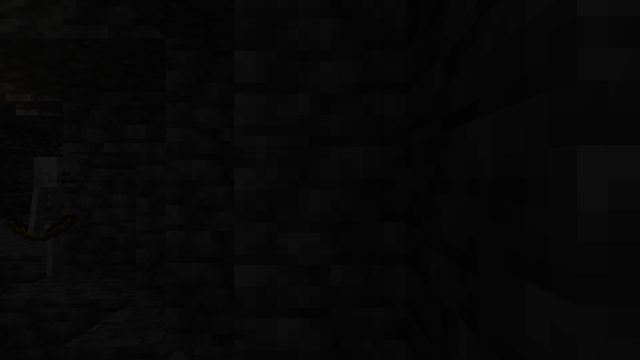squelettes: (26, 157, 79, 278)
